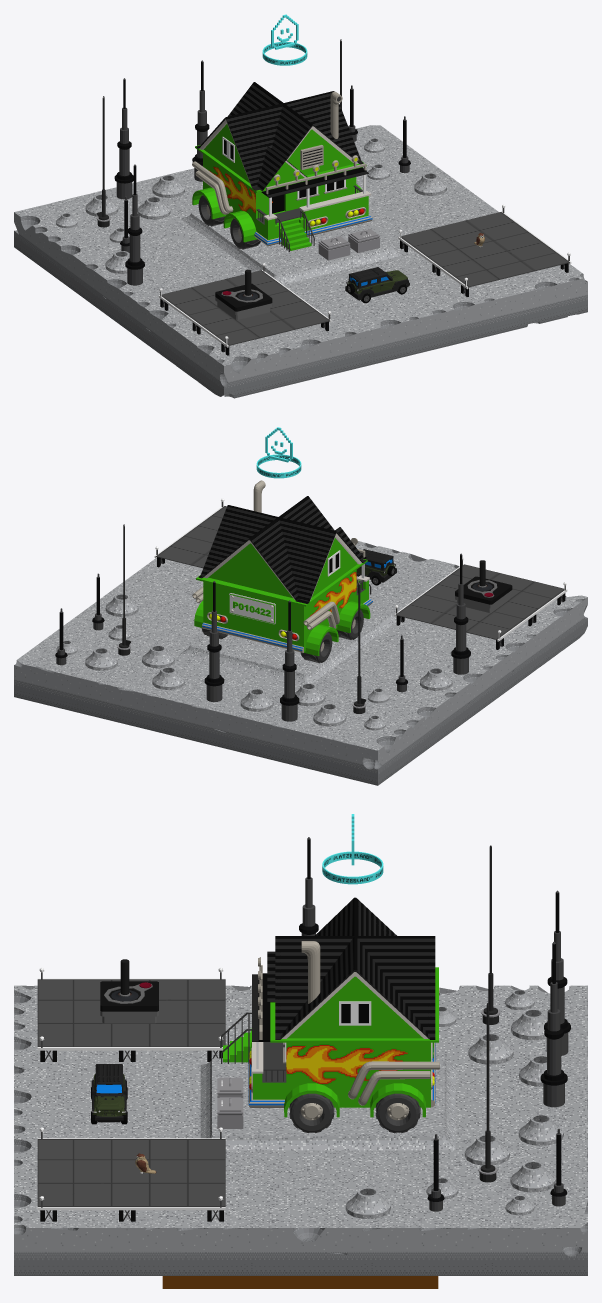
3 views of the same model, one above another, from view 1: azimuth 30°, elevation 25°; view 2: azimuth 150°, elevation 25°; view 3: azimuth 270°, elevation 25° (orthographic). The views are drawn at different scales.
Parts seen in each view (by area): view 1: Cube.027, Cube.1474, Cube.026, Cube.025, Cube.028, OBJRANDOM_JOYSTICK, VEHICLES_JEEP, Cylinder.021, Cylinder.020, TYPE_PREMIUM, Cylinder.017, Cube.029 (+5 smaller); view 2: Cube.027, Cube.1474, Cube.025, Cube.028, Cube.026, OBJRANDOM_JOYSTICK, Cylinder.017, Cylinder.020, Cylinder.021, VEHICLES_JEEP, TYPE_PREMIUM, Cylinder.028 (+8 smaller); view 3: Cube.027, Cube.1474, Cube.026, Cube.025, Cube.028, UNDERGROUND_ART_PIECE_VAN_GOGH, OBJRANDOM_JOYSTICK, Cylinder.017, VEHICLES_JEEP, Cylinder.020, TYPE_PREMIUM, Cylinder.031 (+12 smaller).
Boxes of the visible parts, x1,y1,x2,y2 form: Cube.027: [14, 125, 587, 398]; Cube.1474: [192, 82, 372, 251]; Cube.026: [398, 204, 571, 296]; Cube.025: [158, 263, 331, 355]; Cube.028: [181, 211, 401, 284]; OBJRANDOM_JOYSTICK: [215, 269, 272, 319]; VEHICLES_JEEP: [345, 267, 409, 303]; Cylinder.021: [125, 164, 144, 285]; Cylinder.020: [114, 78, 133, 199]; TYPE_PREMIUM: [262, 14, 307, 65]; Cylinder.017: [192, 60, 209, 181]; Cube.029: [318, 236, 350, 260]; Cube.027: [14, 541, 587, 785]; Cube.1474: [192, 480, 372, 663]; Cube.025: [394, 557, 567, 649]; Cube.028: [180, 606, 396, 684]; Cube.026: [154, 498, 226, 568]; OBJRANDOM_JOYSTICK: [455, 560, 512, 612]; Cylinder.017: [204, 581, 224, 702]; Cylinder.020: [280, 600, 299, 721]; Cylinder.021: [451, 553, 470, 674]; VEHICLES_JEEP: [356, 549, 396, 585]; TYPE_PREMIUM: [256, 427, 301, 478]; Cylinder.028: [313, 703, 346, 726]; Cube.027: [14, 985, 587, 1275]; Cube.1474: [221, 897, 439, 1133]; Cube.026: [37, 1127, 225, 1221]; Cube.025: [37, 967, 225, 1061]; Cube.028: [200, 1058, 455, 1150]; UNDERGROUND_ART_PIECE_VAN_GOGH: [162, 1276, 438, 1288]; OBJRANDOM_JOYSTICK: [100, 959, 158, 1023]; Cylinder.017: [540, 941, 567, 1107]; VEHICLES_JEEP: [91, 1064, 127, 1124]; Cylinder.020: [544, 890, 570, 1055]; TYPE_PREMIUM: [322, 814, 383, 884]; Cylinder.031: [510, 1161, 555, 1192].
Size of the model in its own units: 4000 by 2829 by 4000.
44 materials, 7 textured.
